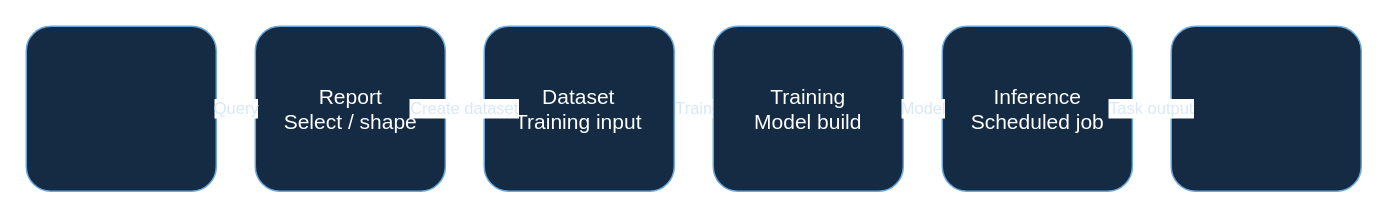
Image size: 1388x218. Some labels were removed from this diagram. Each missing label, with the centre of its shape:
"Event store Historical events" goes at [120,108].
"Output Incident / email" goes at [1265,108].
